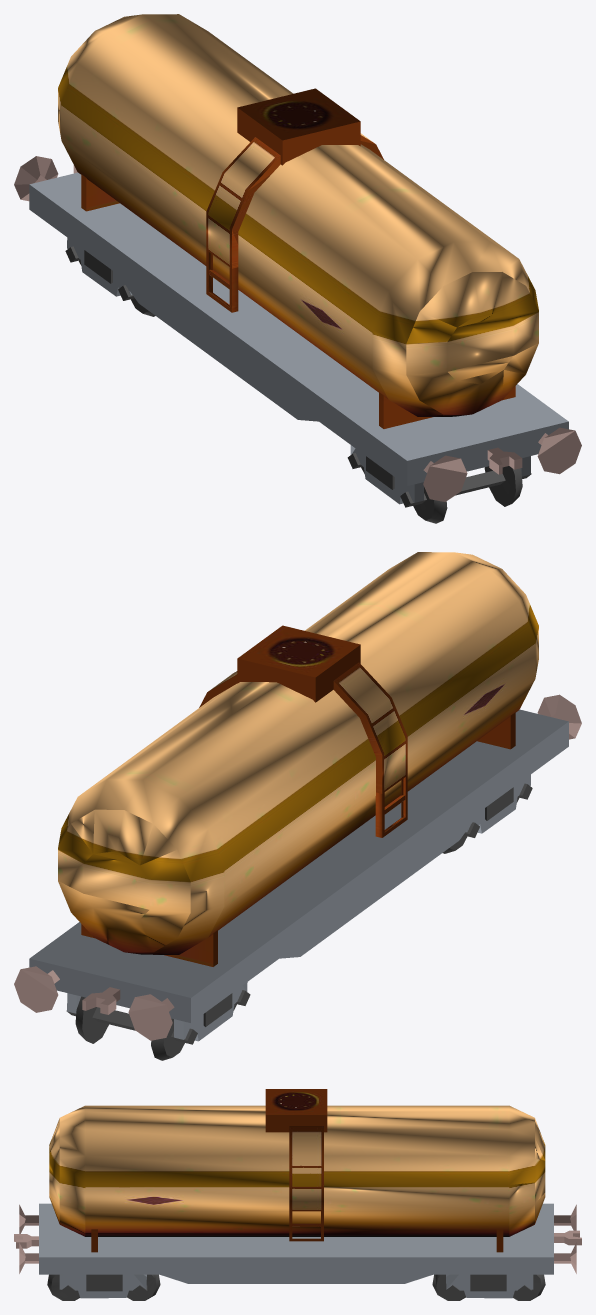
File: tankcaryellow.dae
The picture shows the model from 3 angles, top to bottom: view 1: azimuth 30°, elevation 25°; view 2: azimuth 150°, elevation 25°; view 3: azimuth 270°, elevation 25°; orthographic projection. The views are drawn at different scales.
Visible parts, largest first — view 1: 9.0.242.0_Pts_Material__4__Surf, 9.0.242.0_Pts_Material_Surf, 9.0.242.0_Pts_Material__3__Surf, 9.0.242.0_Pts_Material__2__Surf; view 2: 9.0.242.0_Pts_Material__4__Surf, 9.0.242.0_Pts_Material_Surf, 9.0.242.0_Pts_Material__3__Surf, 9.0.242.0_Pts_Material__2__Surf; view 3: 9.0.242.0_Pts_Material__4__Surf, 9.0.242.0_Pts_Material_Surf, 9.0.242.0_Pts_Material__2__Surf, 9.0.242.0_Pts_Material__3__Surf.
Boxes of the visible parts, x1,y1,x2,y2 form: 9.0.242.0_Pts_Material__4__Surf: [58, 14, 538, 428]; 9.0.242.0_Pts_Material_Surf: [29, 172, 568, 504]; 9.0.242.0_Pts_Material__3__Surf: [14, 156, 581, 501]; 9.0.242.0_Pts_Material__2__Surf: [65, 246, 531, 523]; 9.0.242.0_Pts_Material__4__Surf: [58, 552, 538, 966]; 9.0.242.0_Pts_Material_Surf: [29, 709, 568, 1041]; 9.0.242.0_Pts_Material__3__Surf: [14, 694, 581, 1040]; 9.0.242.0_Pts_Material__2__Surf: [66, 783, 532, 1060]; 9.0.242.0_Pts_Material__4__Surf: [49, 1089, 545, 1252]; 9.0.242.0_Pts_Material_Surf: [39, 1203, 553, 1298]; 9.0.242.0_Pts_Material__2__Surf: [47, 1274, 545, 1300]; 9.0.242.0_Pts_Material__3__Surf: [14, 1204, 581, 1273].
Size of the model in its own units: 3.49 by 5.22 by 14.32.
4 materials, 1 textured.
